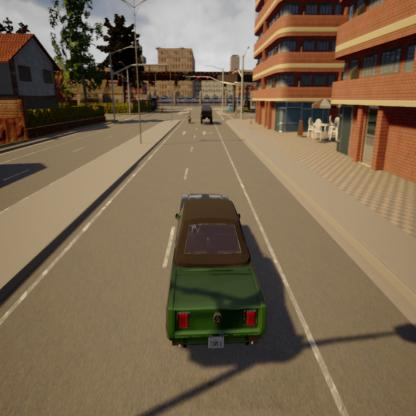Cars: (151, 184, 272, 358)
